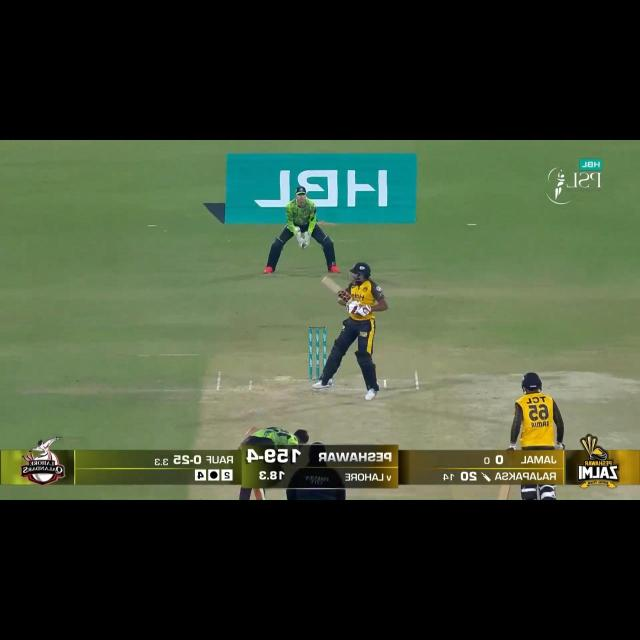bat: (319, 275, 354, 304)
toe: (497, 485, 513, 500), (320, 275, 330, 286)
